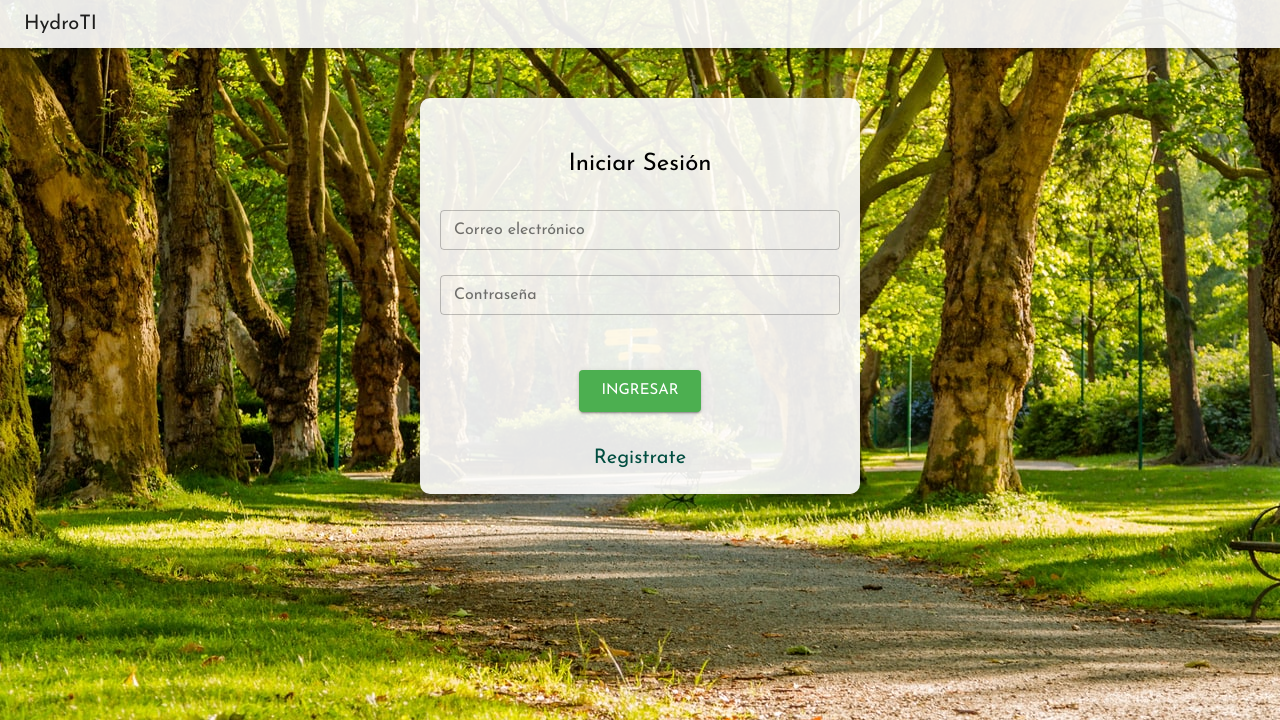
Test: As an user I want to sign in to access the functionality › should show validation errors when form fields are empty
This screenshot has width=1280, height=720.
Click the button "Ingresar" at (640, 391), box [579,370,700,412]
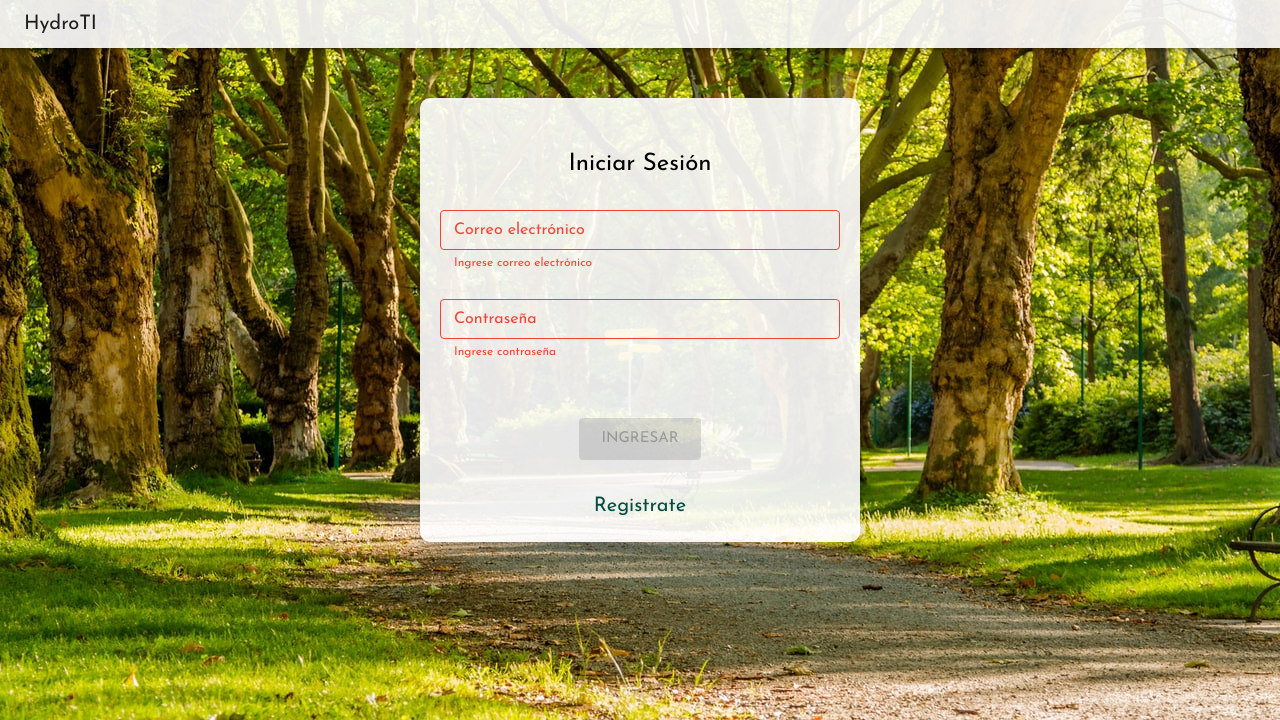
Now the text "Ingrese correo electrónico" is shown, box [454,257,592,269]
Now the text "Ingrese contraseña" is shown, box [454,346,556,358]
